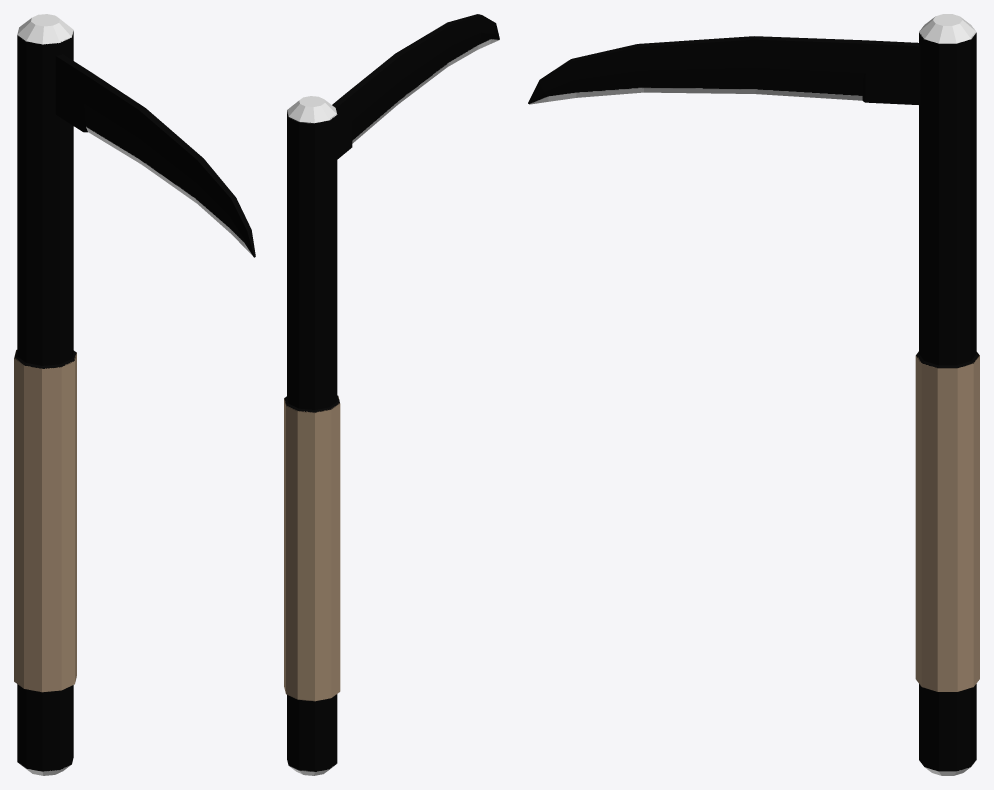
Rendered from Sickle.fbx.
The picture shows the model from 3 angles, left to right: view 1: azimuth 30°, elevation 25°; view 2: azimuth 150°, elevation 25°; view 3: azimuth 270°, elevation 25°; orthographic projection. The views are drawn at different scales.
Parts seen in each view (by area): view 1: Hoz; view 2: Hoz; view 3: Hoz.
Part boxes in pixels (x1,y1,x2,y2): Hoz: [14, 14, 255, 775]; Hoz: [284, 14, 499, 775]; Hoz: [528, 14, 979, 775].
Size of the model in its own units: 7.71 by 104 by 56.97.
